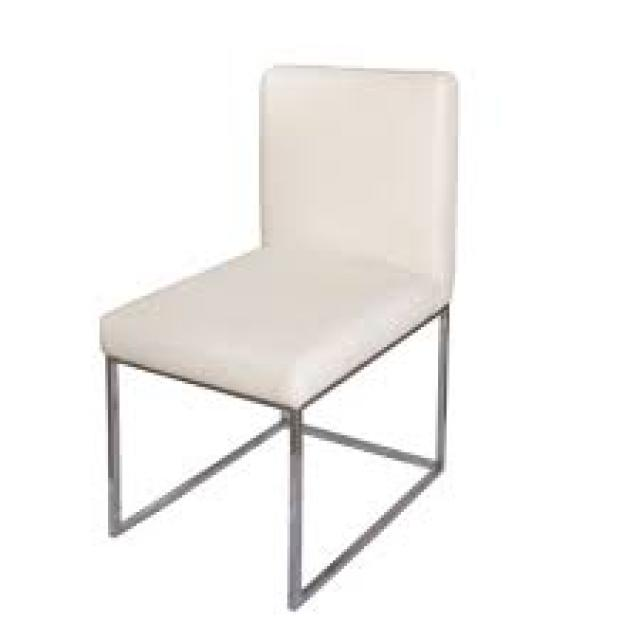bottle: (94, 66, 464, 610)
